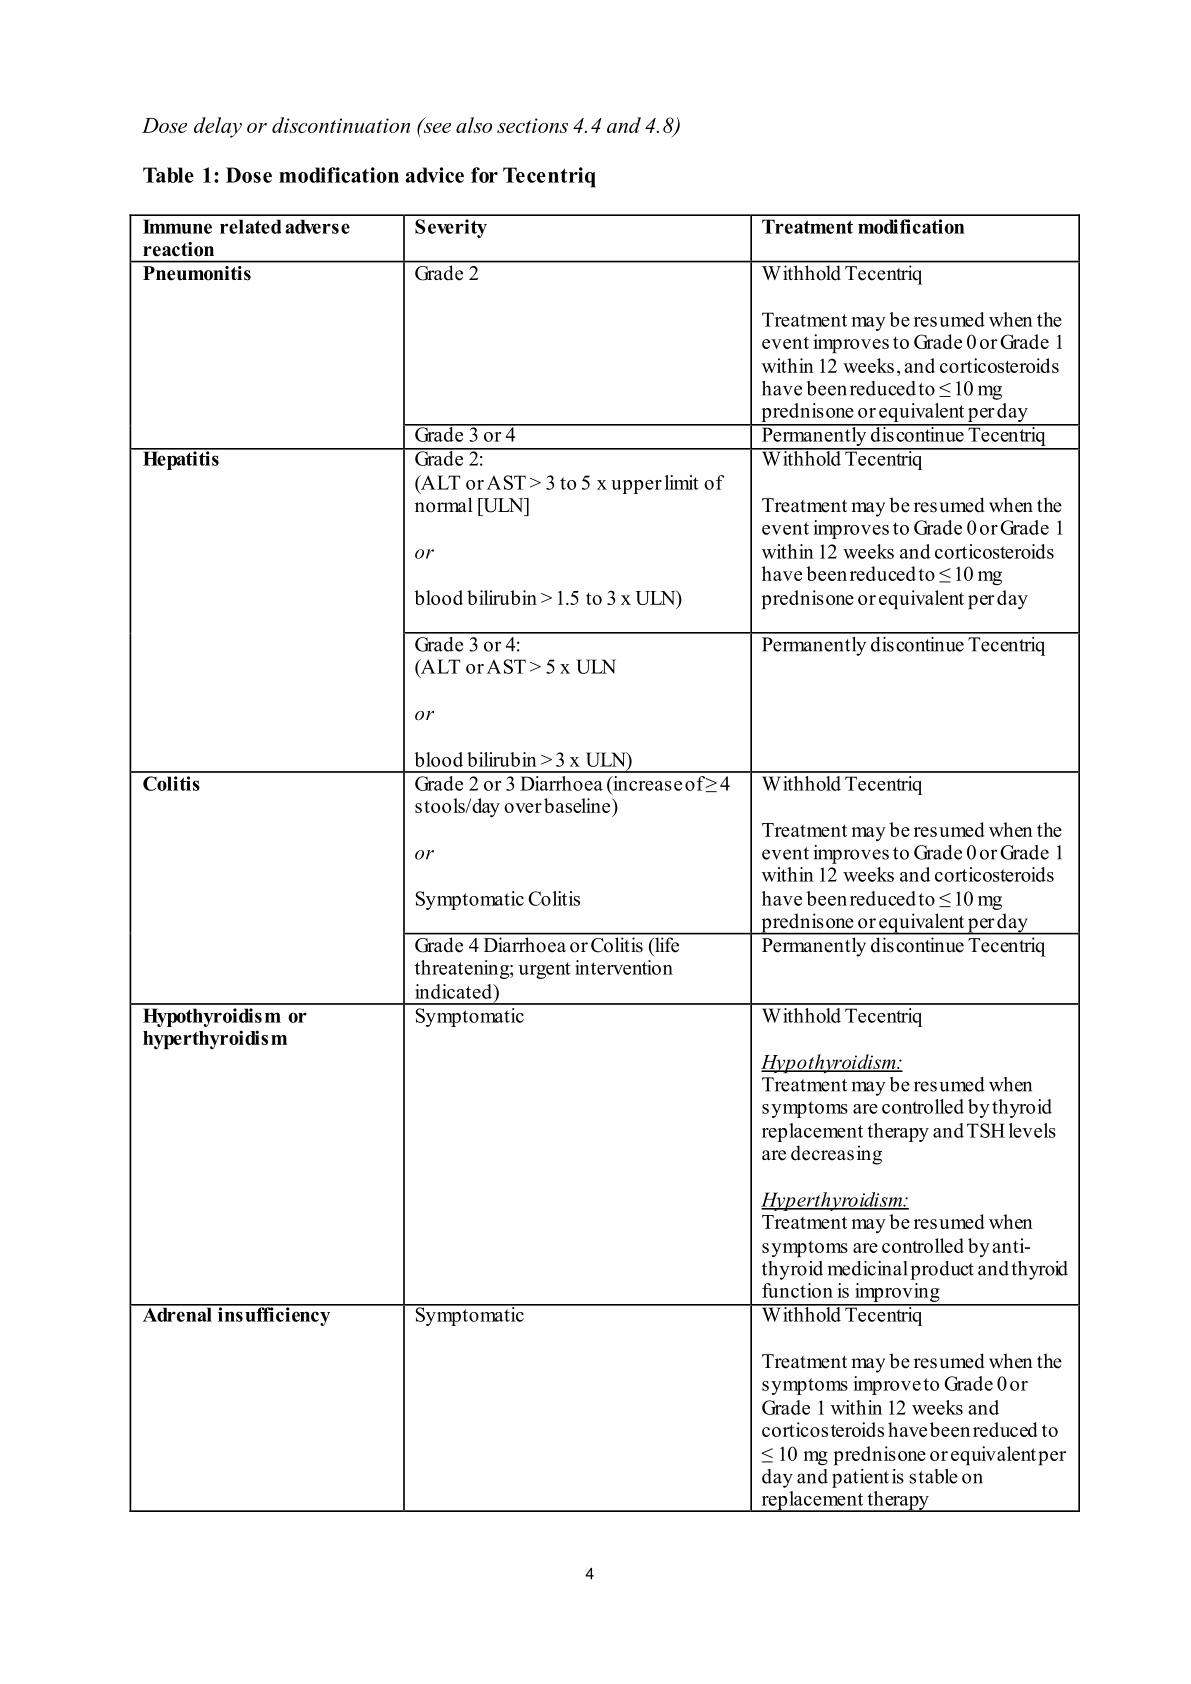merged_cells: (128, 213, 1081, 1514)
